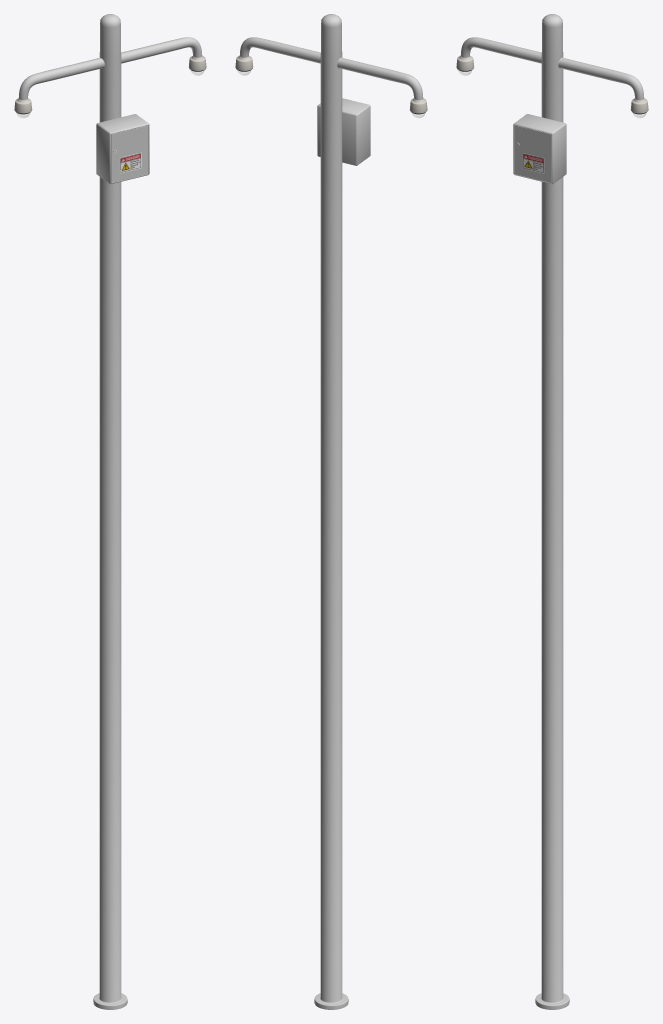
The model's file is camera.glb.
3 renders of one model, left to right at view 1: azimuth 30°, elevation 25°; view 2: azimuth 150°, elevation 25°; view 3: azimuth 330°, elevation 25°, orthographic.
Parts seen in each view (by area): view 1: Surveillance camera pole; view 2: Surveillance camera pole; view 3: Surveillance camera pole.
Boxes of the visible parts, x1,y1,x2,y2 form: Surveillance camera pole: (14, 14, 206, 1009); Surveillance camera pole: (235, 14, 427, 1009); Surveillance camera pole: (456, 14, 648, 1009).
Size of the model in its own units: 1.36 by 6.77 by 0.3535.
Materials: 6 (1 with a texture image).
